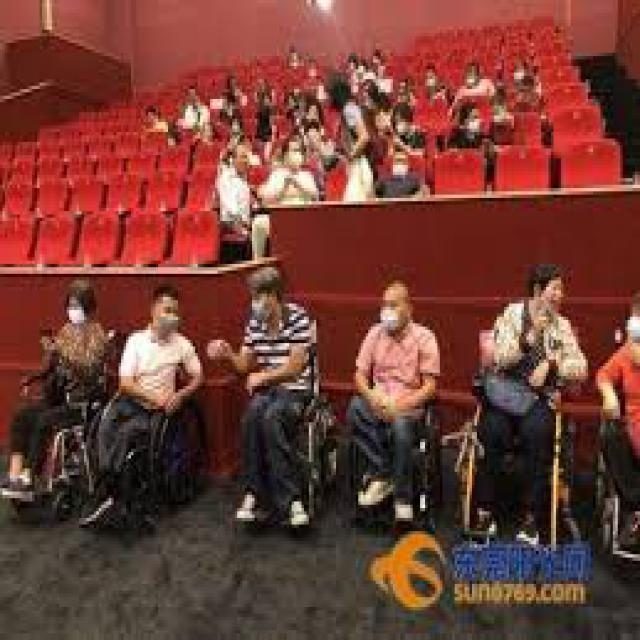wheelchairs: (86, 356, 215, 531), (454, 373, 580, 551), (8, 333, 112, 531), (234, 343, 334, 528), (340, 376, 442, 515), (598, 390, 638, 568)
